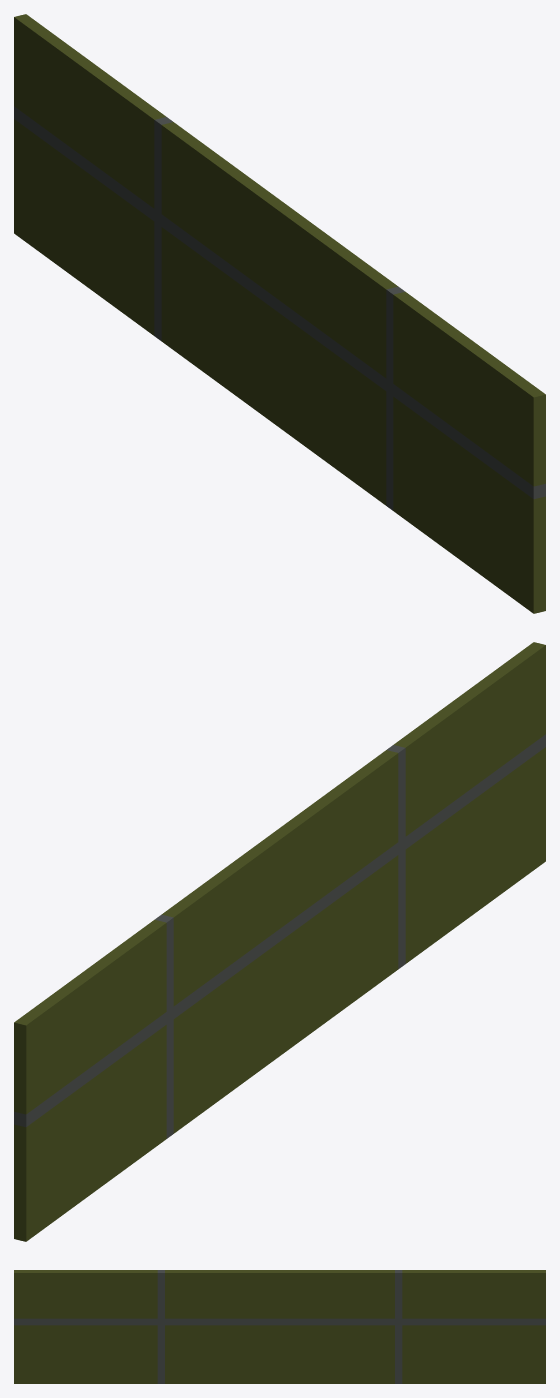
Rendered from military_cargo_truck_tailgate.glb.
3 views of the same model, one above another, from view 1: azimuth 30°, elevation 25°; view 2: azimuth 150°, elevation 25°; view 3: azimuth 270°, elevation 25° (orthographic). The views are drawn at different scales.
Parts seen in each view (by area): view 1: body:compound; view 2: body:compound; view 3: body:compound.
Boxes of the visible parts, left/top/right/bottom form: body:compound: left=14, top=14, right=545, bottom=613; body:compound: left=14, top=642, right=545, bottom=1241; body:compound: left=14, top=1270, right=545, bottom=1383.
Bounding box in the file's own units: 0.0312 × 0.5312 × 2.31.
